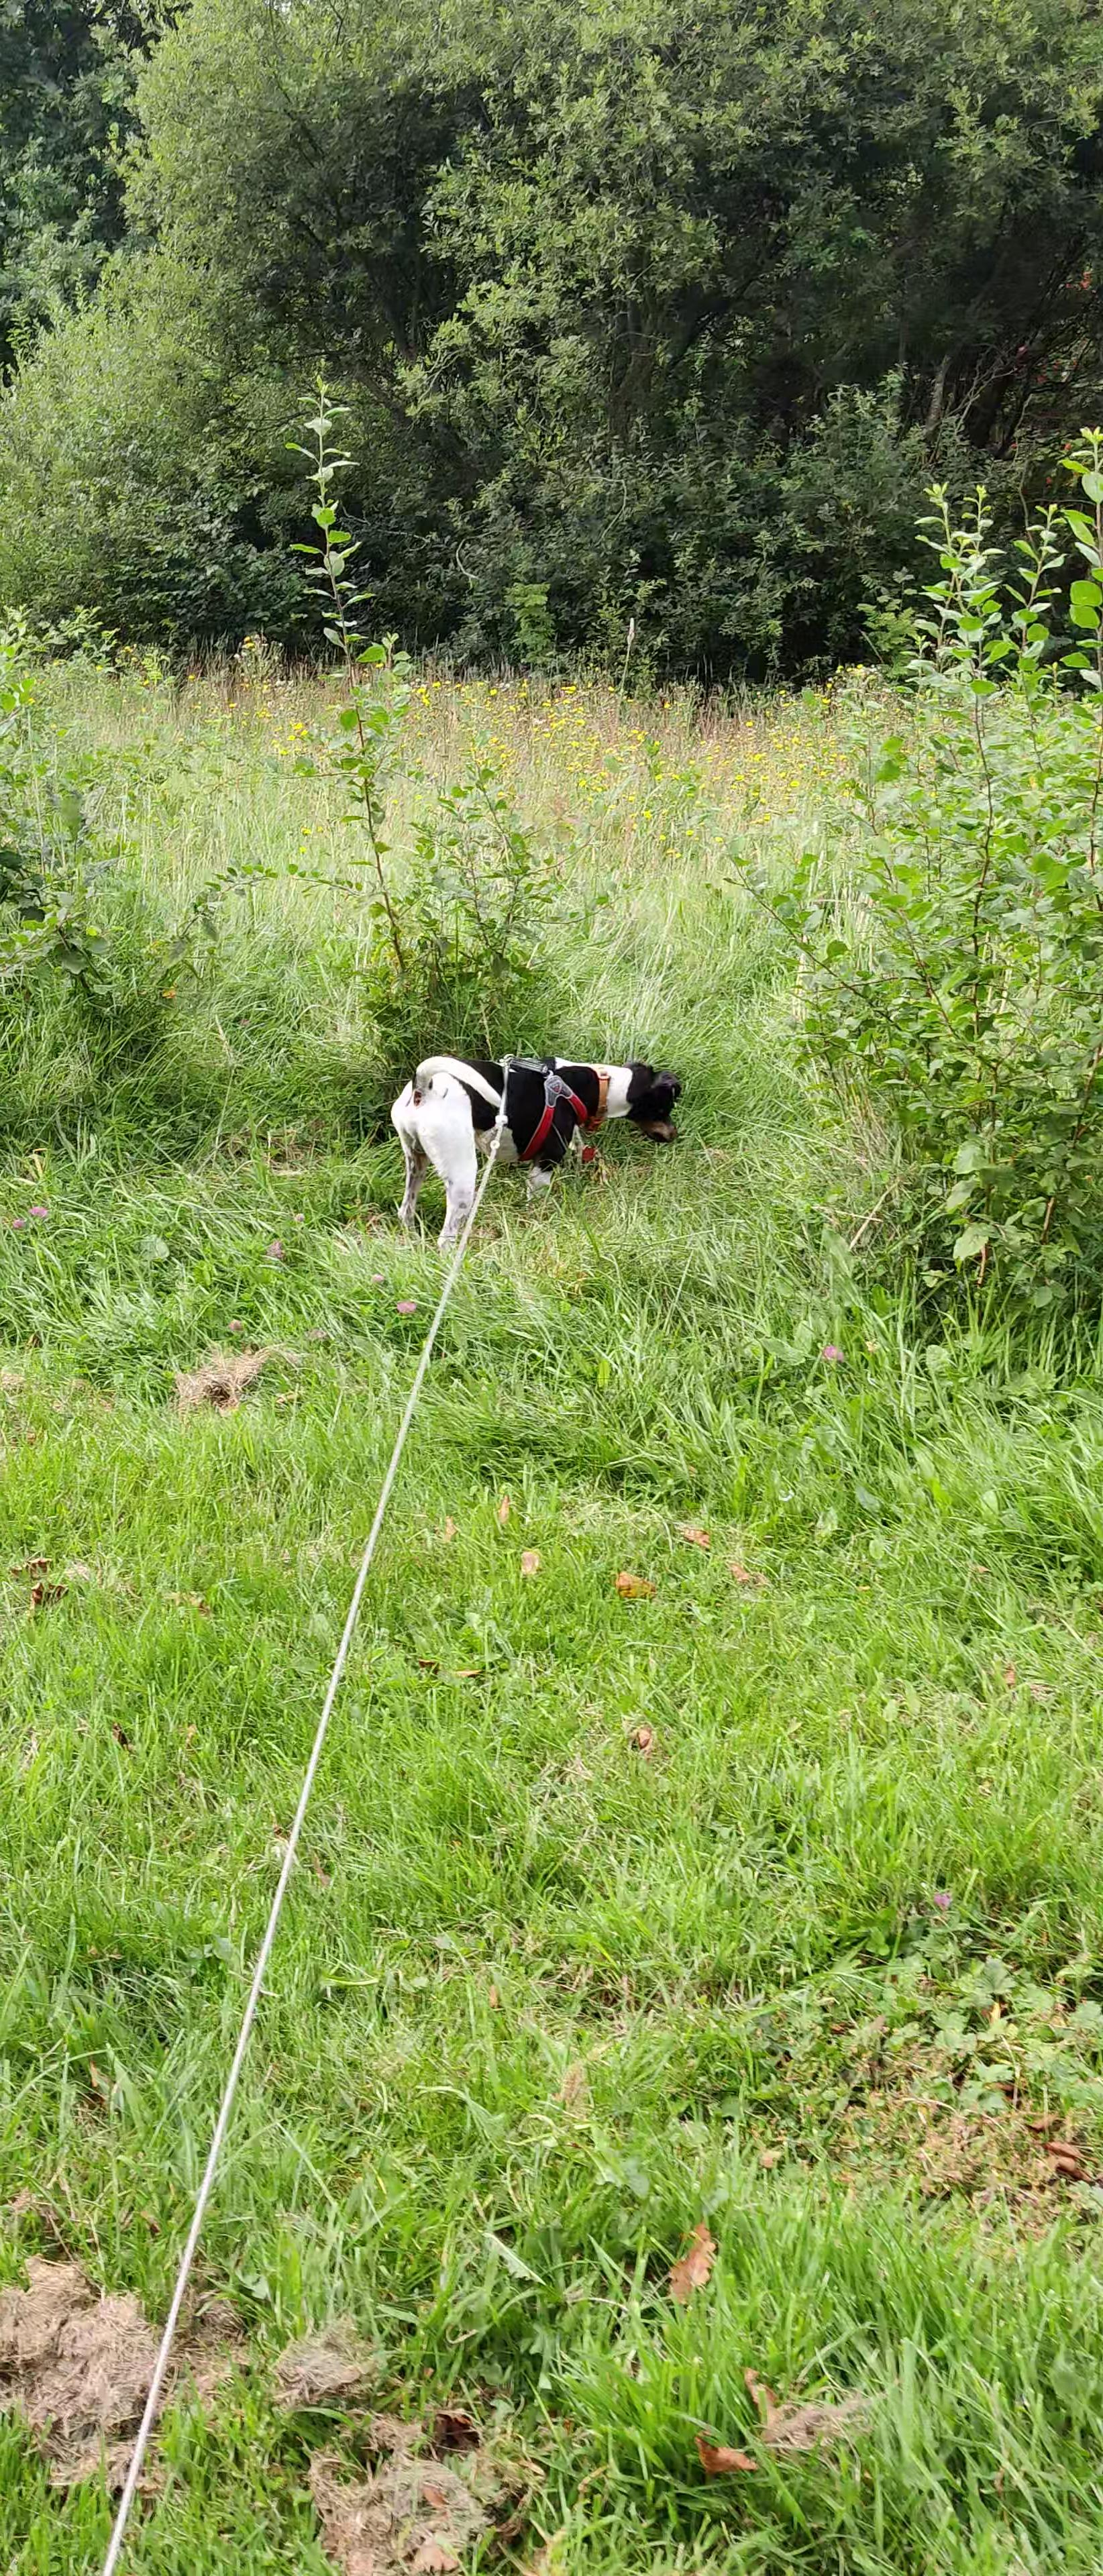Dog: (376, 1040, 695, 1260)
